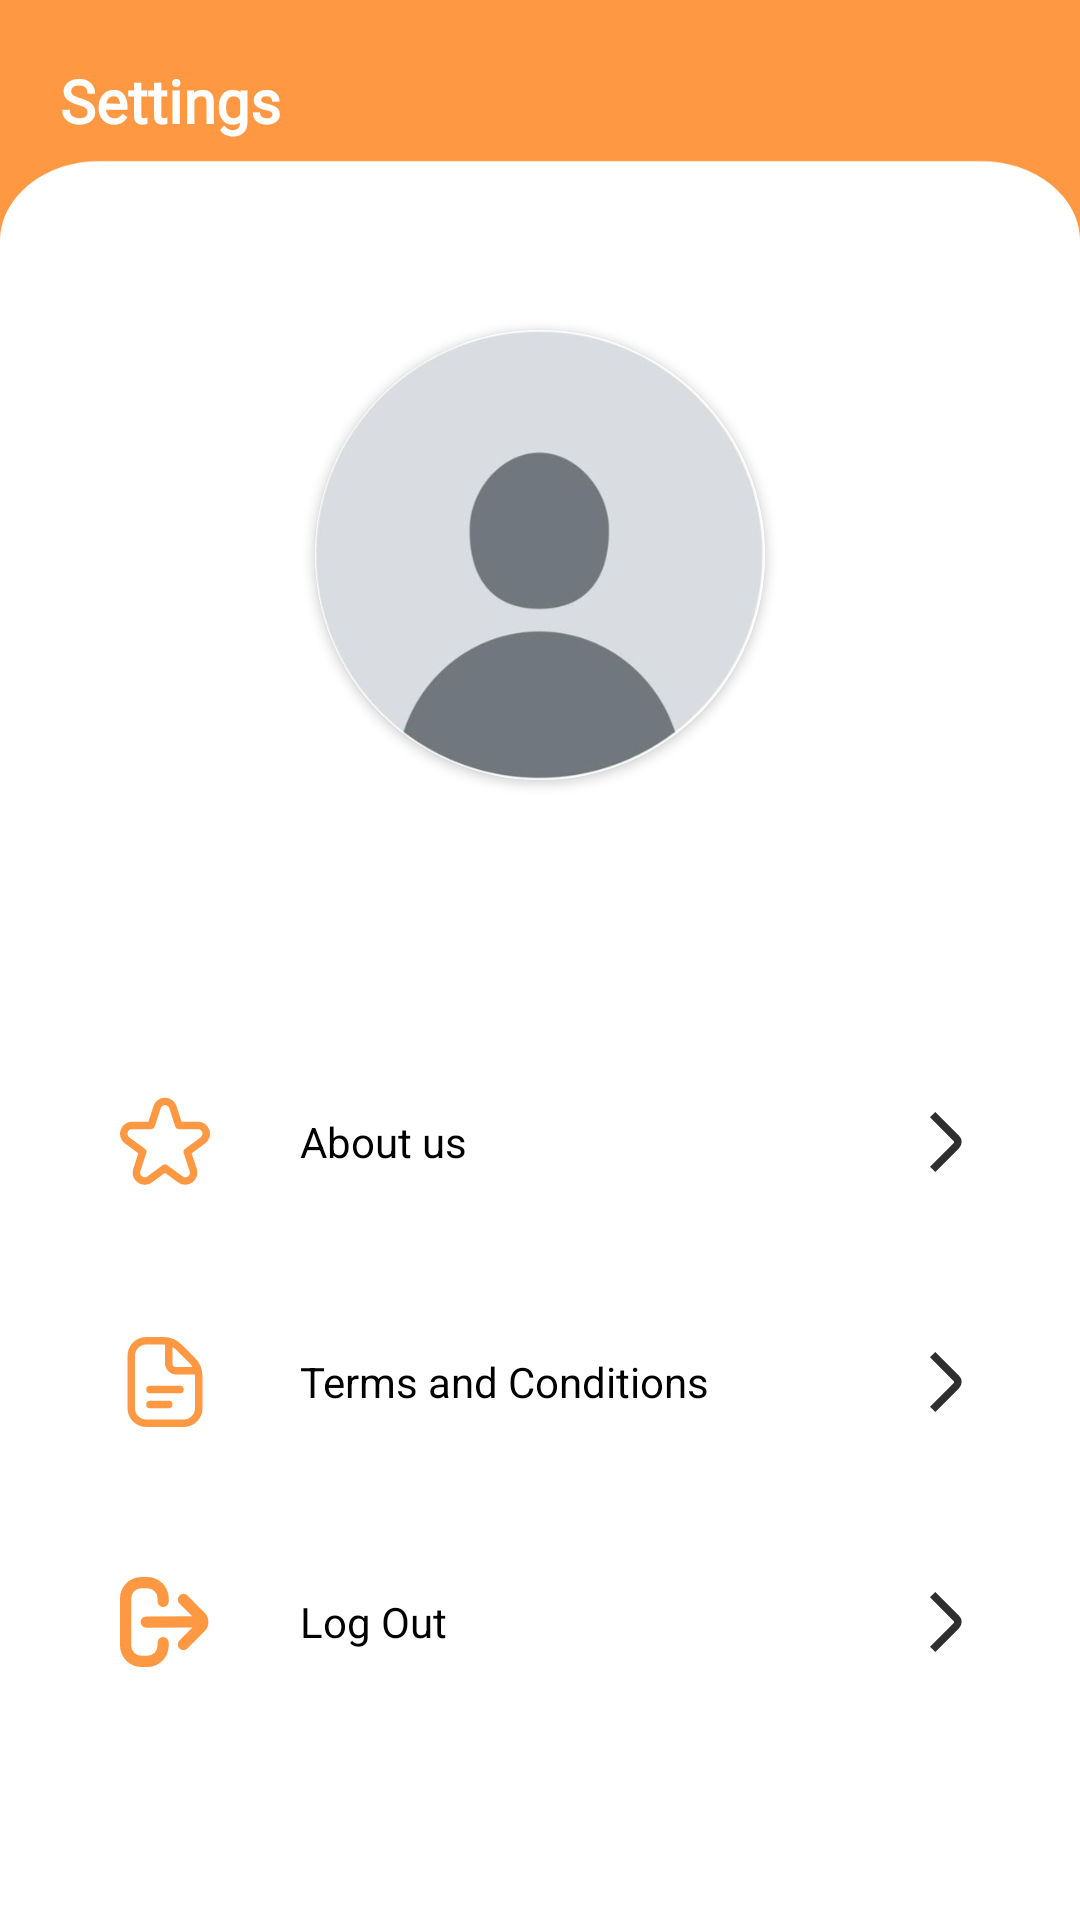

Where to tap for icons on this 1080x1920 app screen, as (x,y):
document: (165,1382)
right: (946,1142), (946,1382), (946,1622)
